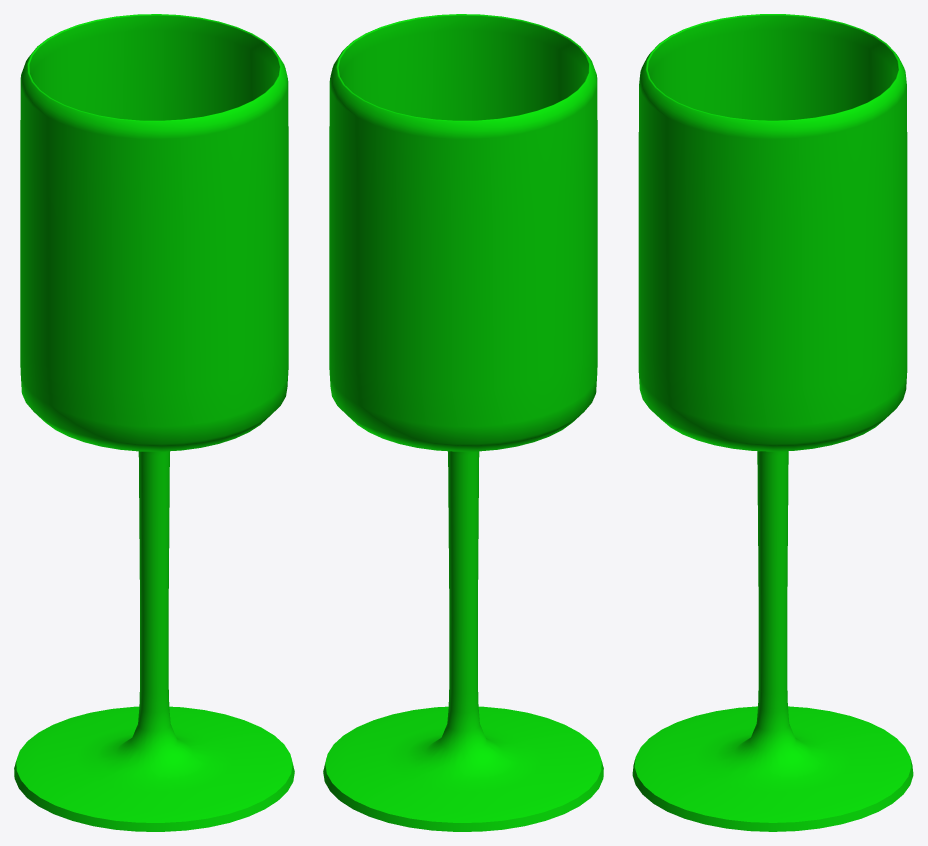
File: Glass8_LOD_1.fbx
3 renders of one model, left to right at view 1: azimuth 30°, elevation 25°; view 2: azimuth 150°, elevation 25°; view 3: azimuth 270°, elevation 25°, orthographic.
Parts seen in each view (by area): view 1: Glass8_LOD_1; view 2: Glass8_LOD_1; view 3: Glass8_LOD_1.
Part boxes in pixels (left/top/right/bottom): Glass8_LOD_1: left=14, top=14, right=294, bottom=831; Glass8_LOD_1: left=323, top=14, right=603, bottom=831; Glass8_LOD_1: left=632, top=14, right=913, bottom=831.
Bounding box in the file's own units: 0.7178 × 2 × 0.7185.
